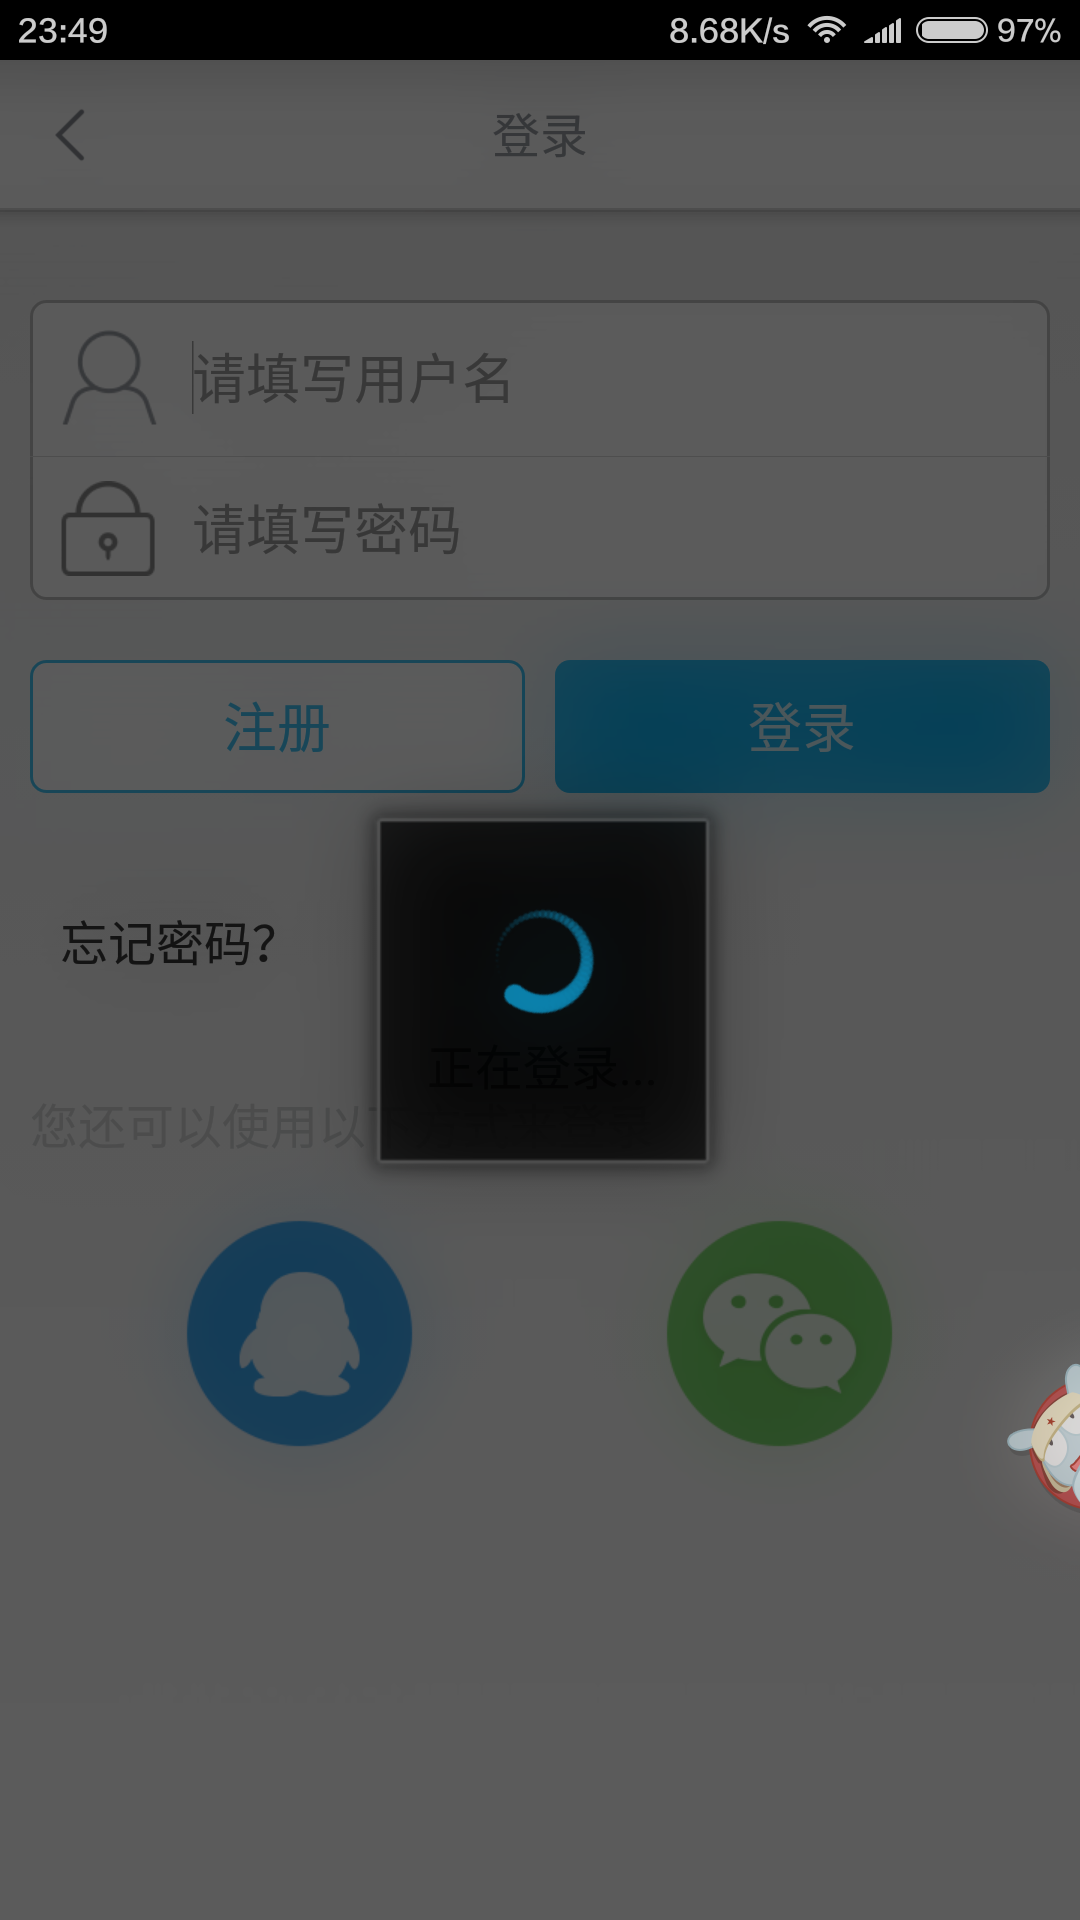alert: (371, 808, 720, 1178)
